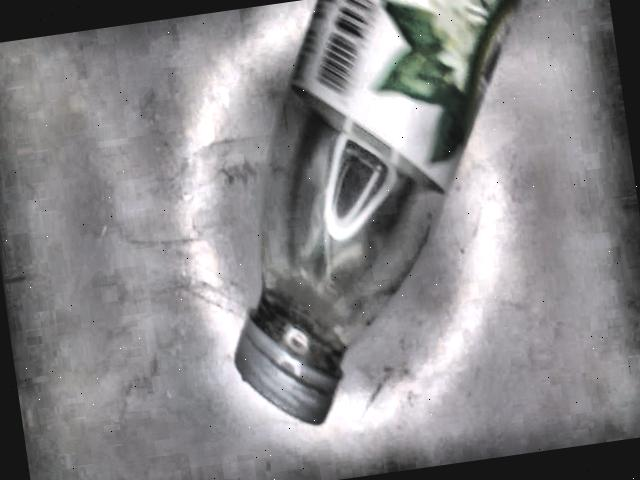Bottles: (232, 0, 520, 423)
